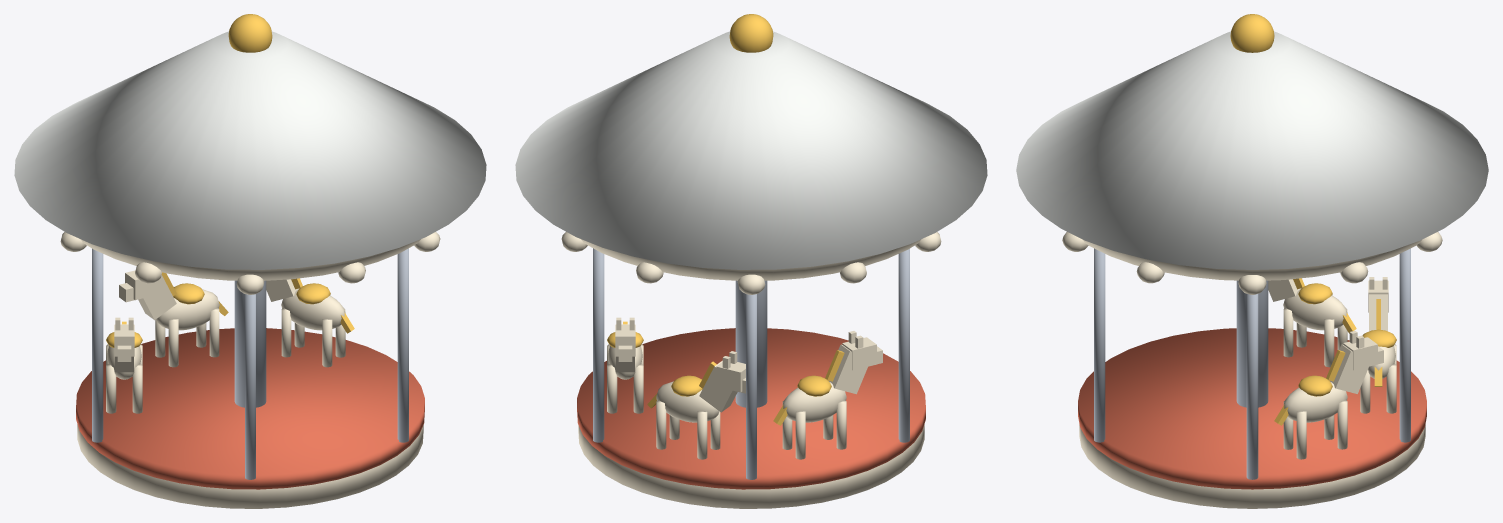
The model's file is carousel.glb.
3 views of the same model, side by side, from view 1: azimuth 30°, elevation 25°; view 2: azimuth 150°, elevation 25°; view 3: azimuth 270°, elevation 25° (orthographic).
Visible parts, largest first — view 1: carousel_snow_cap, carousel_rim, carousel_base, carousel_horse_1, carousel_valance, carousel_horse_0, carousel_horse_2, carousel_column, carousel_pole_3, carousel_pole_5, carousel_pole_4, carousel_knob; view 2: carousel_snow_cap, carousel_rim, carousel_base, carousel_horse_2, carousel_horse_1, carousel_valance, carousel_horse_0, carousel_pole_3, carousel_pole_1, carousel_column, carousel_pole_2, carousel_knob; view 3: carousel_snow_cap, carousel_rim, carousel_base, carousel_horse_0, carousel_valance, carousel_horse_2, carousel_horse_1, carousel_column, carousel_pole_0, carousel_pole_1, carousel_pole_5, carousel_knob.
Part boxes in pixels (<box>): carousel_snow_cap: <box>14,31,486,269</box>; carousel_rim: <box>76,328,424,489</box>; carousel_base: <box>77,424,423,508</box>; carousel_horse_1: <box>119,270,228,367</box>; carousel_valance: <box>60,232,440,294</box>; carousel_horse_0: <box>266,278,354,367</box>; carousel_horse_2: <box>106,317,142,413</box>; carousel_column: <box>234,280,266,407</box>; carousel_pole_3: <box>92,248,103,442</box>; carousel_pole_5: <box>397,248,408,442</box>; carousel_pole_4: <box>245,294,255,479</box>; carousel_knob: <box>228,14,272,52</box>; carousel_snow_cap: <box>515,31,987,269</box>; carousel_rim: <box>577,328,925,489</box>; carousel_base: <box>578,424,924,508</box>; carousel_horse_2: <box>773,331,882,459</box>; carousel_horse_1: <box>647,351,745,459</box>; carousel_valance: <box>561,232,941,294</box>; carousel_horse_0: <box>607,317,643,413</box>; carousel_pole_3: <box>898,248,909,442</box>; carousel_pole_1: <box>593,248,604,442</box>; carousel_column: <box>735,280,767,407</box>; carousel_pole_2: <box>746,294,756,479</box>; carousel_knob: <box>729,14,773,52</box>; carousel_snow_cap: <box>1016,31,1488,269</box>; carousel_rim: <box>1078,328,1426,489</box>; carousel_base: <box>1079,424,1425,508</box>; carousel_horse_0: <box>1274,331,1383,459</box>; carousel_valance: <box>1062,232,1442,294</box>; carousel_horse_2: <box>1268,278,1356,367</box>; carousel_horse_1: <box>1360,277,1396,413</box>; carousel_column: <box>1236,280,1268,407</box>; carousel_pole_0: <box>1246,294,1258,479</box>; carousel_pole_1: <box>1399,248,1410,442</box>; carousel_pole_5: <box>1094,248,1105,442</box>; carousel_knob: <box>1230,14,1274,52</box>.
Size of the model in its own units: 1.5 by 1.47 by 1.5.
